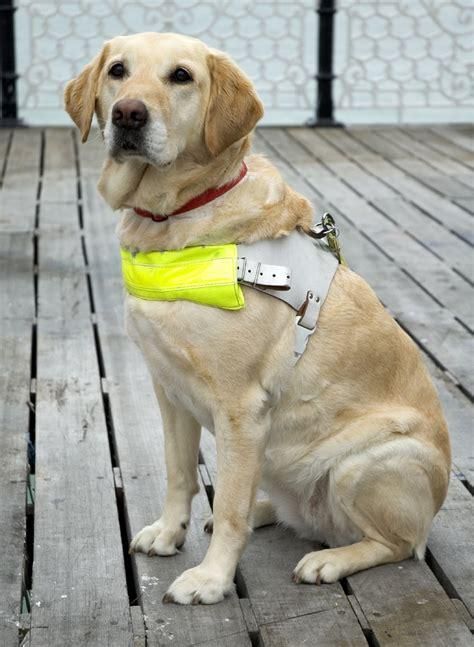dog: (65, 33, 449, 601)
